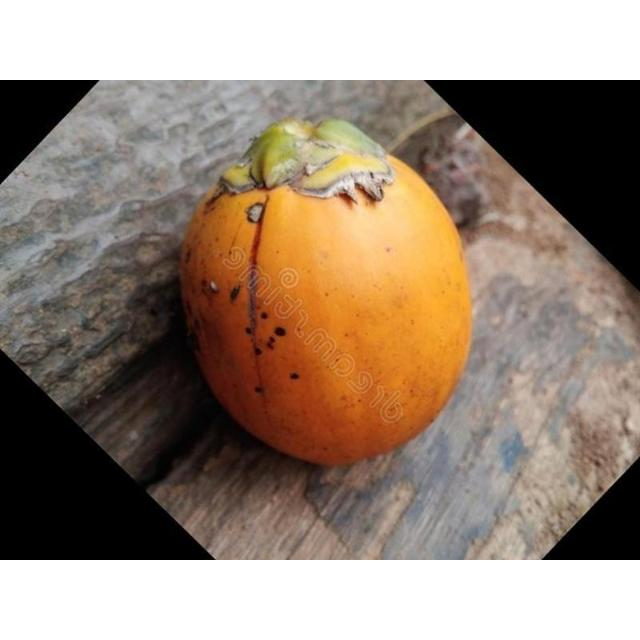good: (178, 119, 474, 468)
